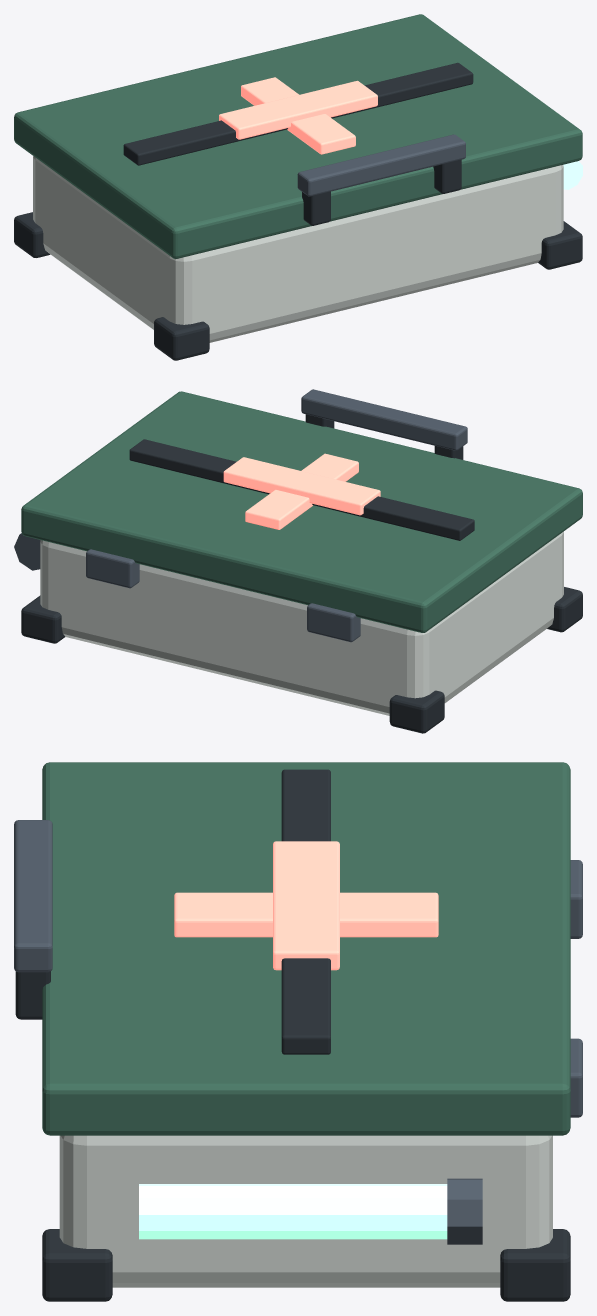
File: prop_medkit.glb
3 renders of one model, top to bottom at view 1: azimuth 30°, elevation 25°; view 2: azimuth 150°, elevation 25°; view 3: azimuth 270°, elevation 25°, orthographic. The views are drawn at different scales.
Visible parts, largest first — view 1: prop_medkit; view 2: prop_medkit; view 3: prop_medkit.
Boxes of the visible parts, x1,y1,x2,y2 form: prop_medkit: (14,14,582,360); prop_medkit: (14,389,582,733); prop_medkit: (14,762,582,1301).
Bounding box in the file's own units: 0.475 × 0.162 × 0.323.
